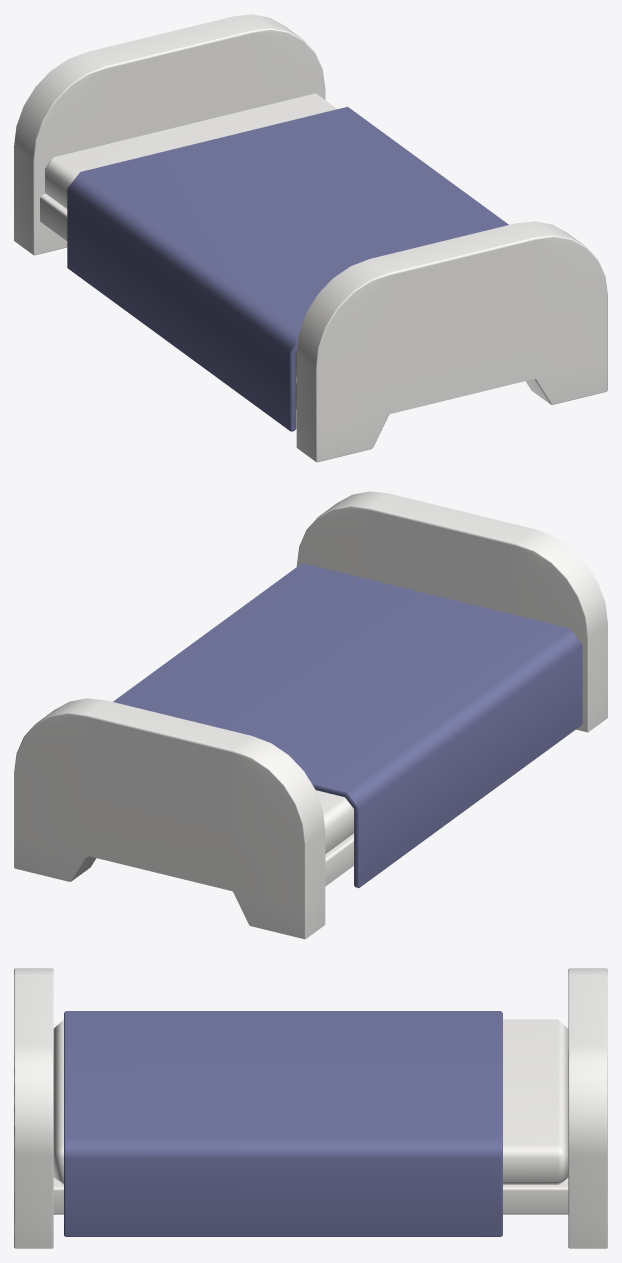
The model's file is Bed_5.glb.
3 views of the same model, one above another, from view 1: azimuth 30°, elevation 25°; view 2: azimuth 150°, elevation 25°; view 3: azimuth 270°, elevation 25° (orthographic). The views are drawn at different scales.
Parts seen in each view (by area): view 1: Bed_5; view 2: Bed_5; view 3: Bed_5.
Part boxes in pixels (x1,y1,x2,y2): Bed_5: (14,14,607,462); Bed_5: (14,491,607,939); Bed_5: (14,968,607,1248).
Bounding box in the file's own units: 1.71 × 0.9615 × 3.06.
Materials: 1 (1 with a texture image).
